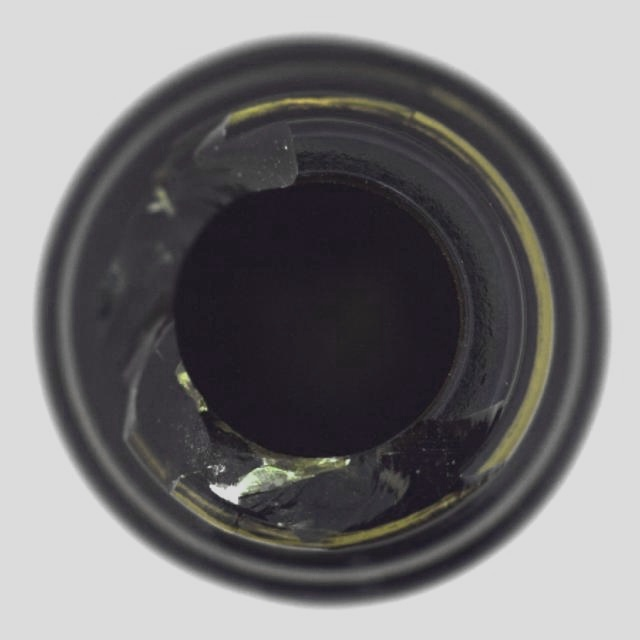bad-broken_large: (32, 31, 611, 606)
